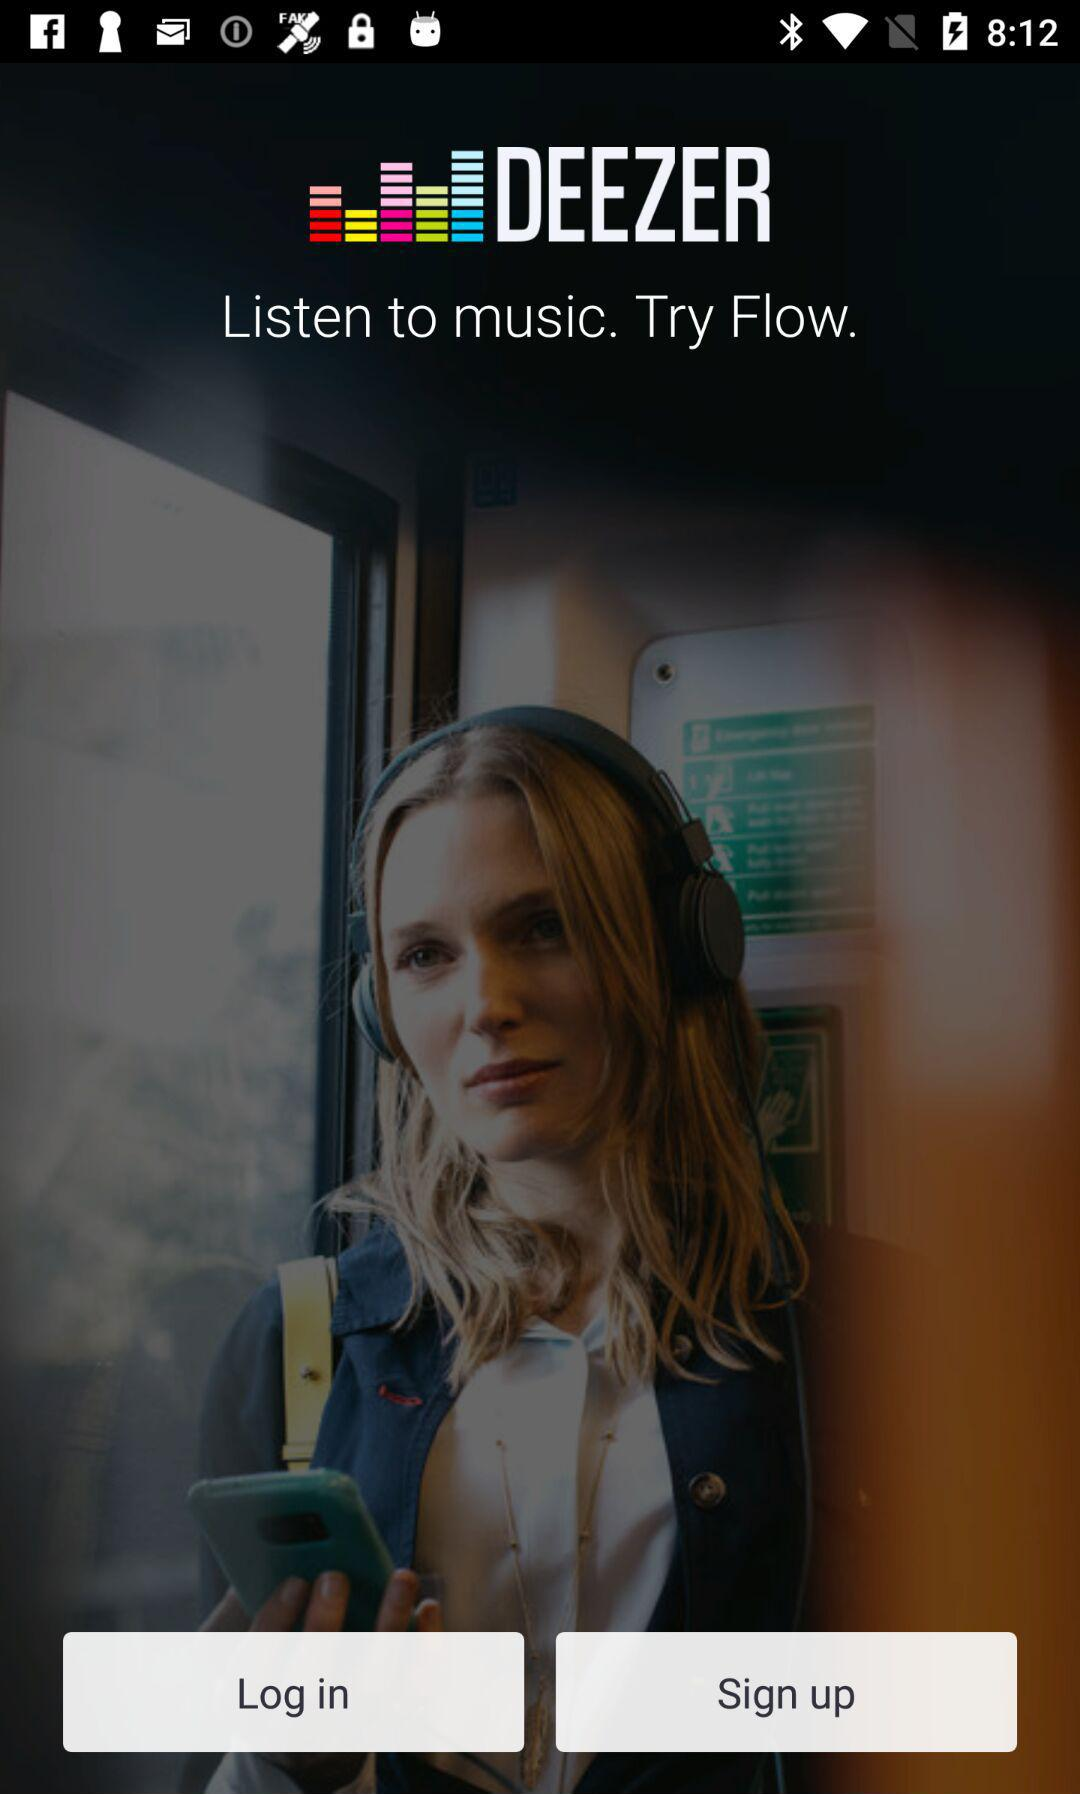BackgroundImage: (1, 64, 1080, 1794)
Image: (309, 146, 771, 243)
Text: (225, 293, 857, 351)
TextButton: (64, 1633, 525, 1753), (556, 1633, 1017, 1752)
UpperTaskBar: (1, 1, 1080, 64)
